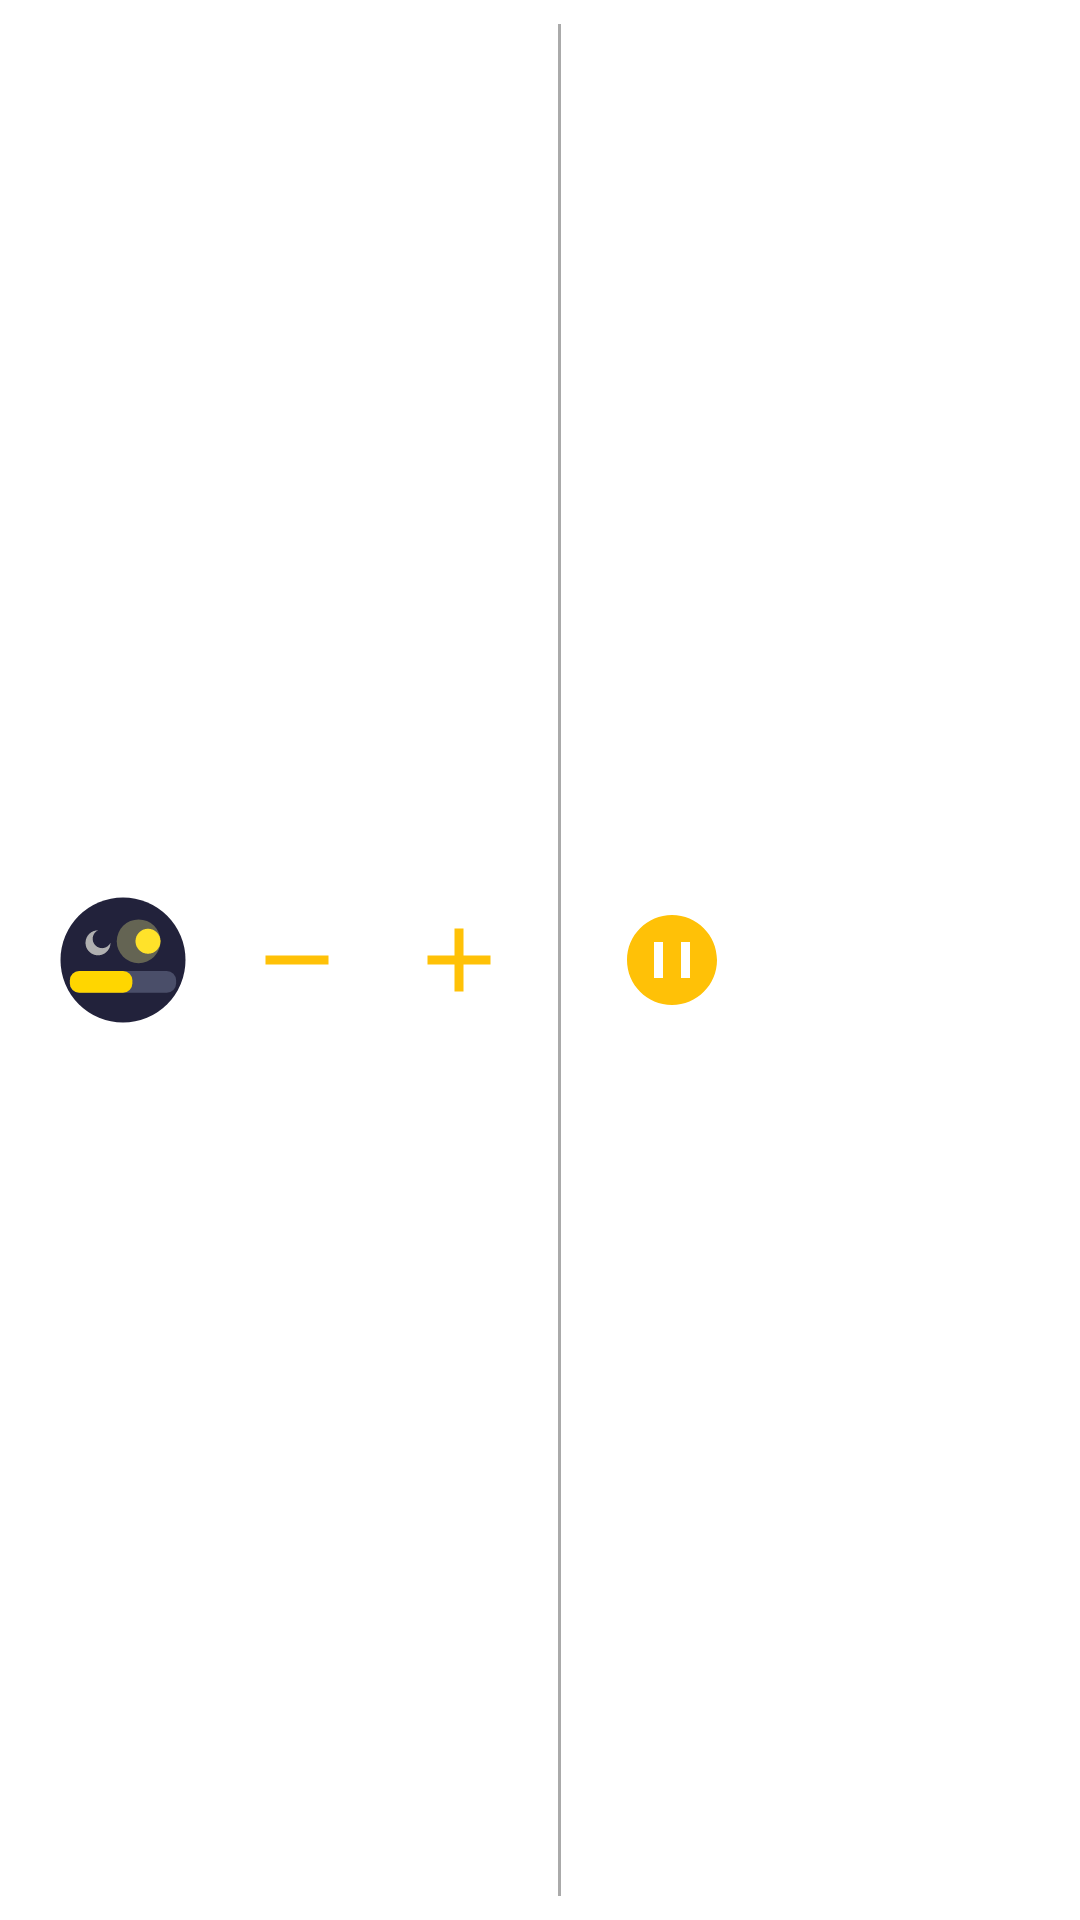

Where icons sit on this 1080 × 1920 app screen, as bbox=[x1, y1, x2, y2]:
pause: bbox=[627, 915, 717, 1005]
plus: bbox=[427, 928, 491, 992]
